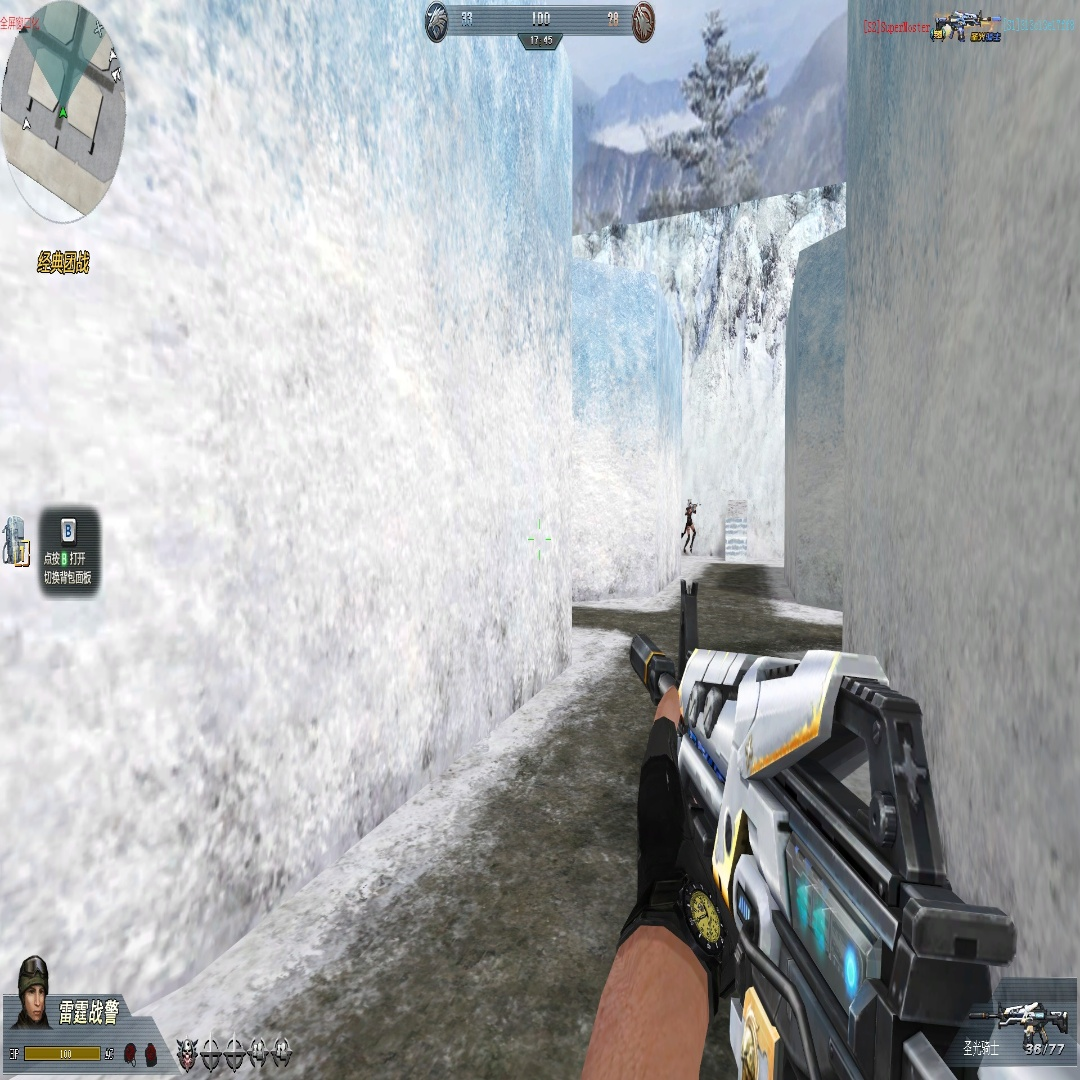head: (687, 498, 692, 508)
t: (682, 501, 698, 553)
